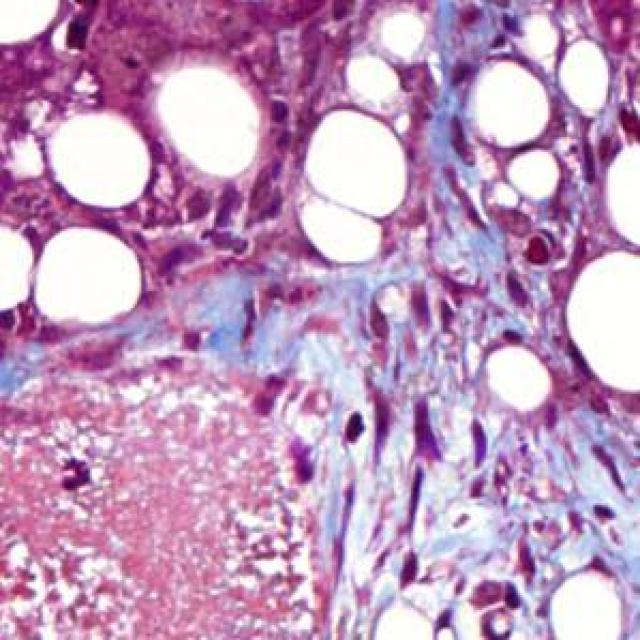steatosis: (32, 222, 154, 328), (308, 107, 413, 216), (54, 115, 160, 204), (479, 340, 556, 422)
